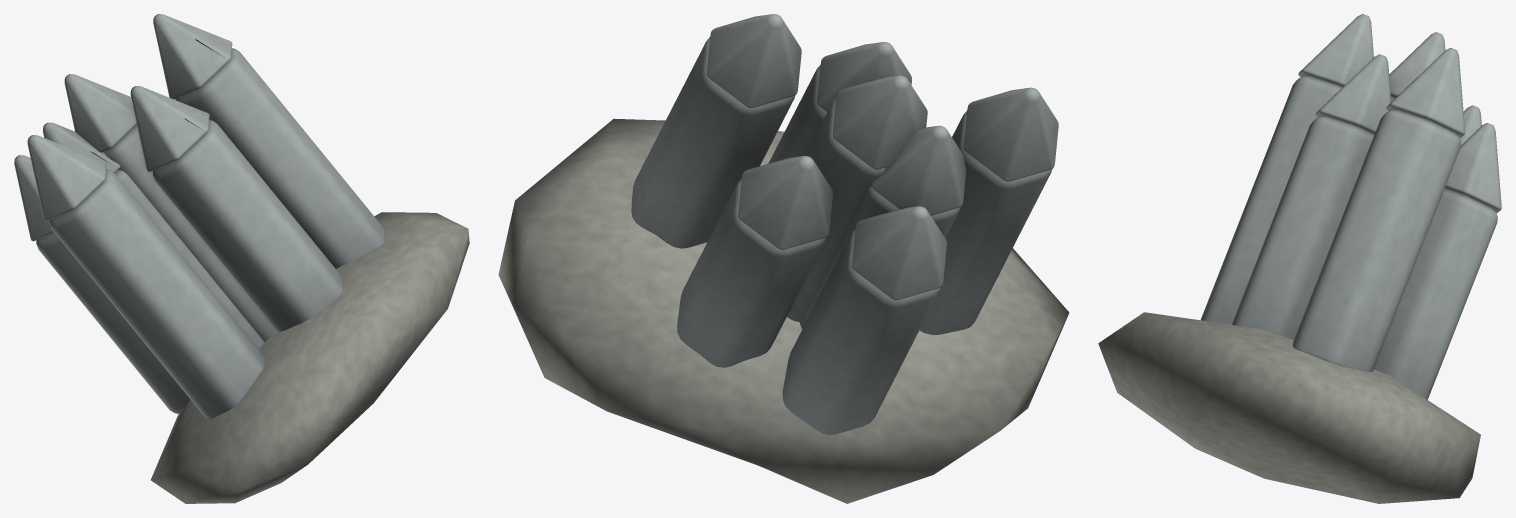
3 views of the same model, side by side, from view 1: azimuth 30°, elevation 25°; view 2: azimuth 150°, elevation 25°; view 3: azimuth 270°, elevation 25° (orthographic). The views are drawn at different scales.
Visible parts, largest first — view 1: Mineral growth base; view 2: Mineral growth base; view 3: Mineral growth base.
Part boxes in pixels (box(x1,y1,x2,y2)): Mineral growth base: box(14, 14, 469, 503); Mineral growth base: box(498, 14, 1069, 503); Mineral growth base: box(1098, 14, 1501, 503).
Size of the model in its own units: 1 by 0.9764 by 0.7938.
Materials: 1 (1 with a texture image).
